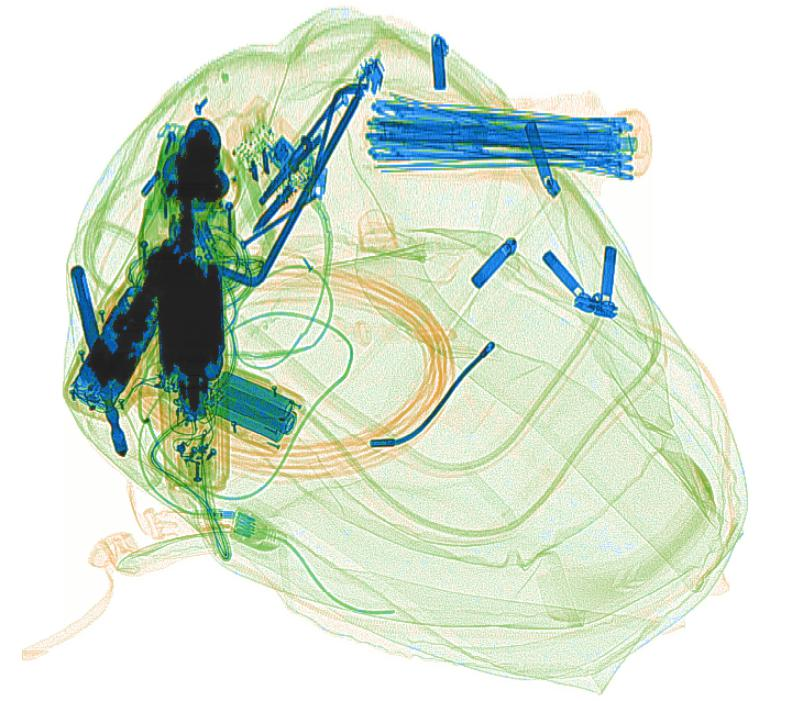battery: (209, 369, 299, 443)
